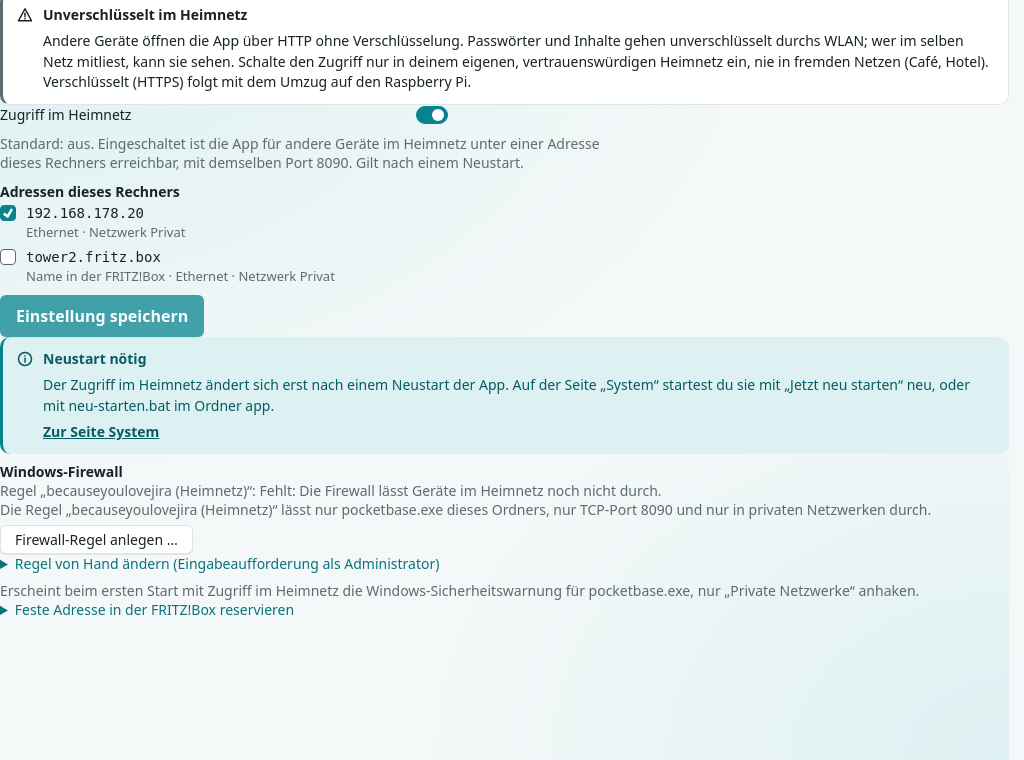
Test case: access in the home network › shows the command by hand when the script named no entry, and checks the state again on request
Click the button "Firewall-Regel anlegen …" at (96, 540), box 0,525 -> 193,554
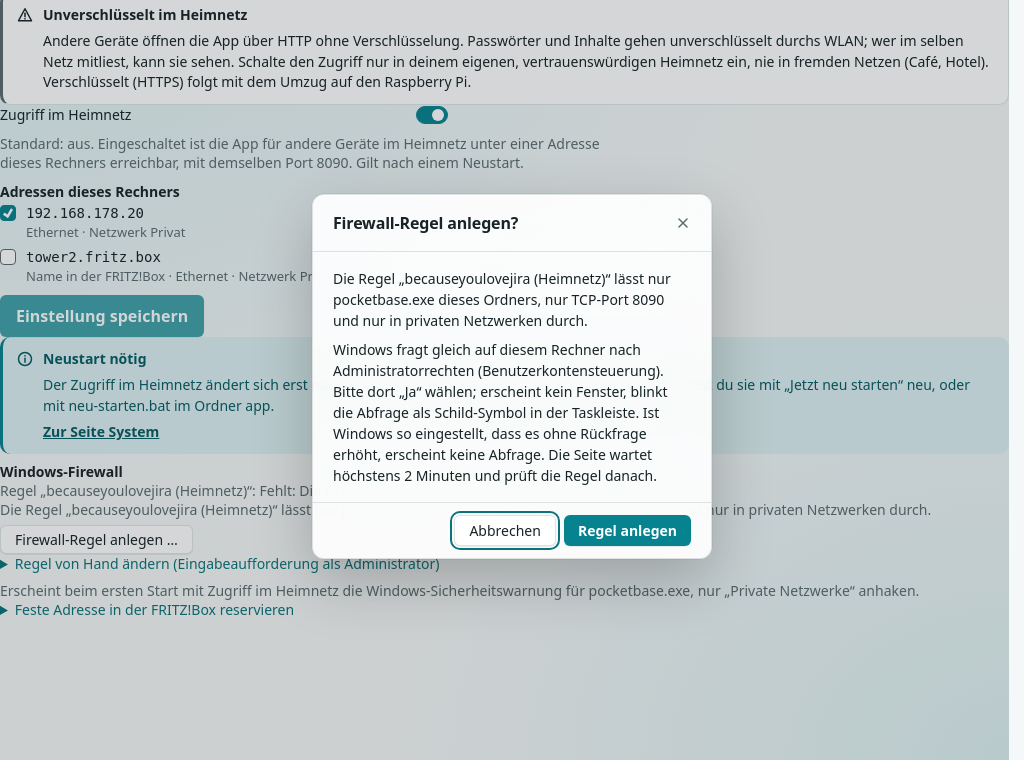
Click the button "Regel anlegen" at (627, 530), box 564,514 -> 691,546
(page scrolled)
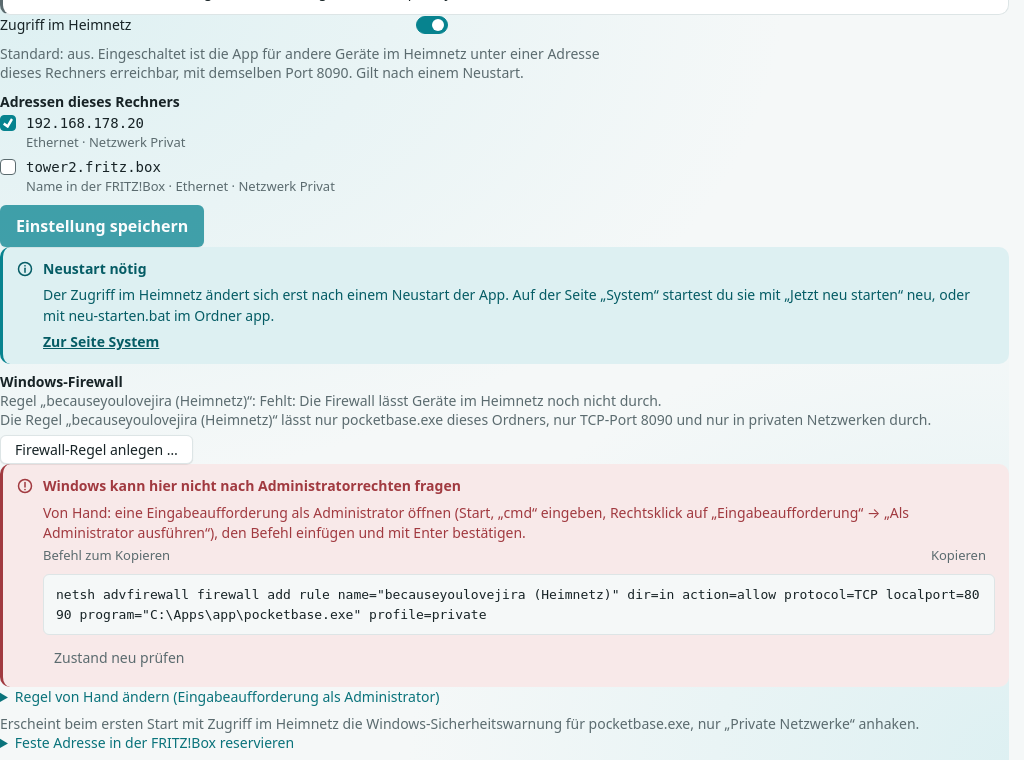
Result: the heading "Windows kann hier nicht nach Administratorrechten fragen" is shown at 42,475 -> 461,495
Result: the text "Eingabeaufforderung als Administrator öffnen" is shown at 43,503 -> 909,542
Result: the element named "Befehl zum Kopieren" shows "netsh advfirewall firewall add rule name=\"becauseyoulovejira (Heimnetz)\" dir=in action=allow protocol=TCP localport=8090 program=\"C:\\Apps\\app\\pocketbase.exe\" pr" at 56,587 -> 980,622
Click the button "Zustand neu prüfen" at (119, 658), box 43,641 -> 195,675
(page scrolled)
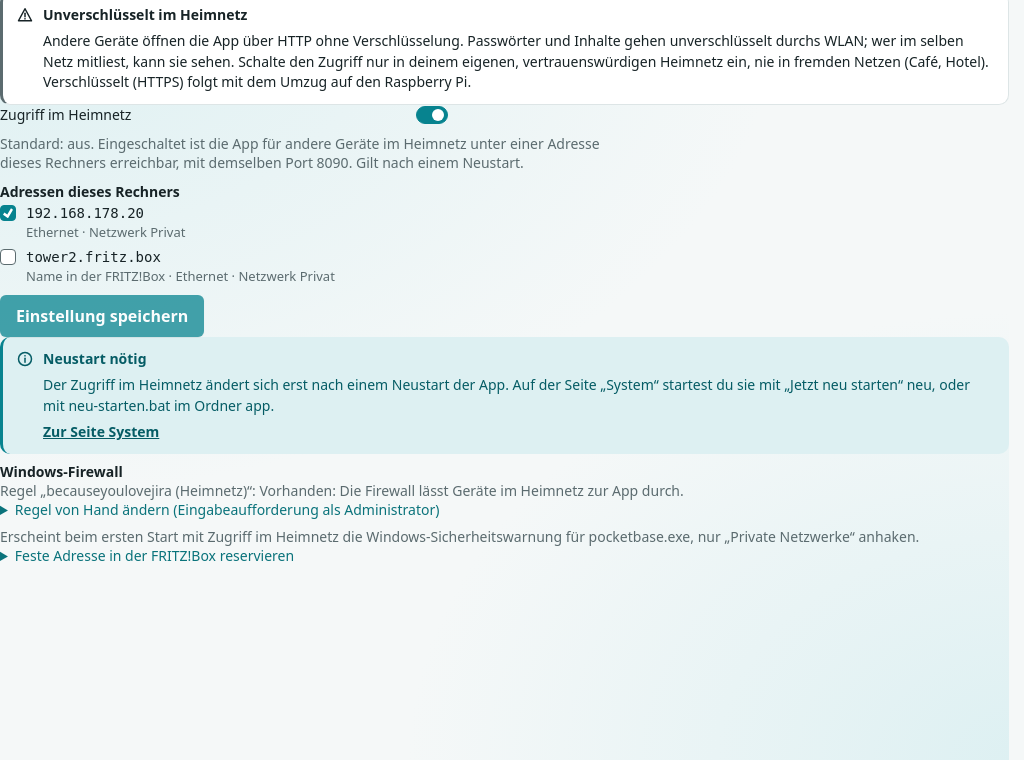
Result: the text "Vorhanden: Die Firewall lässt Geräte im Heimnetz zur App durch" is shown at 0,481 -> 684,500
Result: the heading "Windows kann hier nicht nach Administratorrechten fragen" is gone
